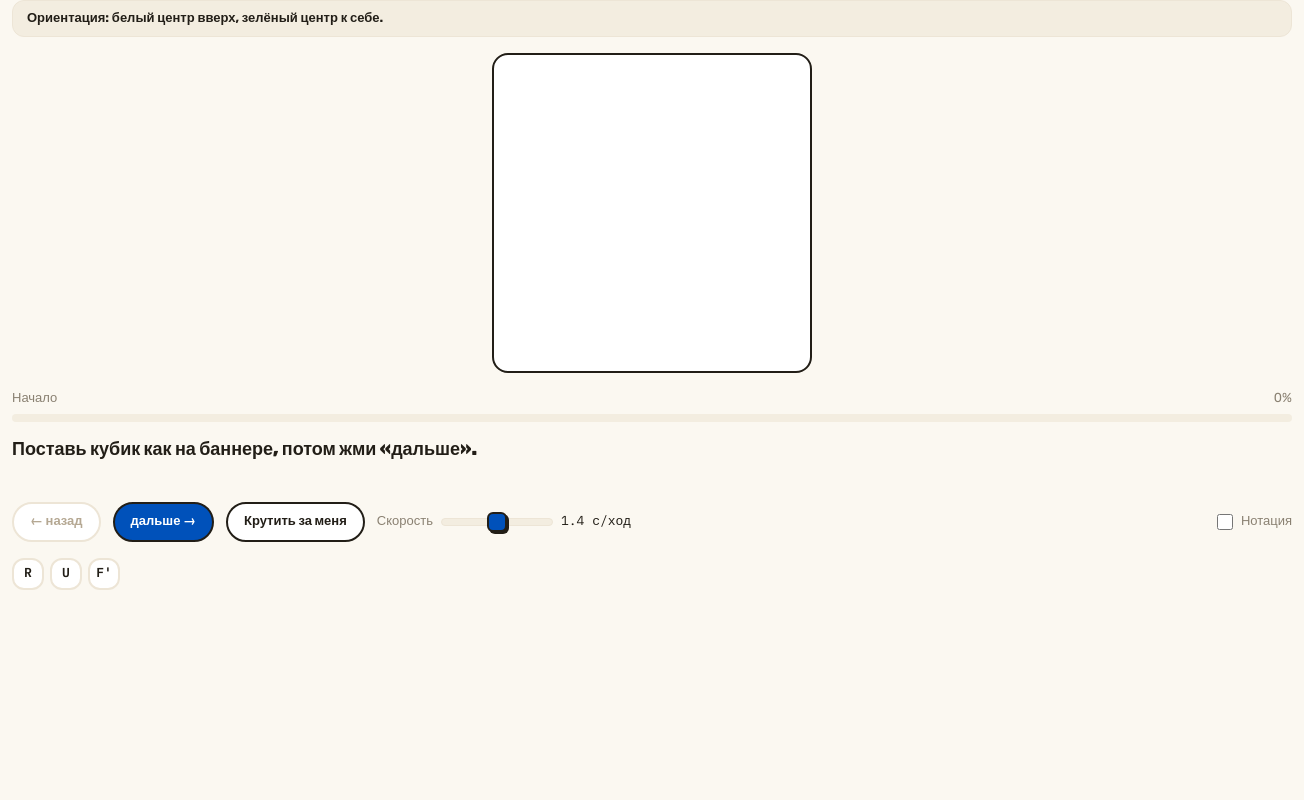
ScrambleWalkthrough — автопрокрутка › сама проходит все ходы и останавливается в конце
Click the button "Крутить за меня".
click(295, 522)  # box [226,502,365,542]
Wait 4200 ms
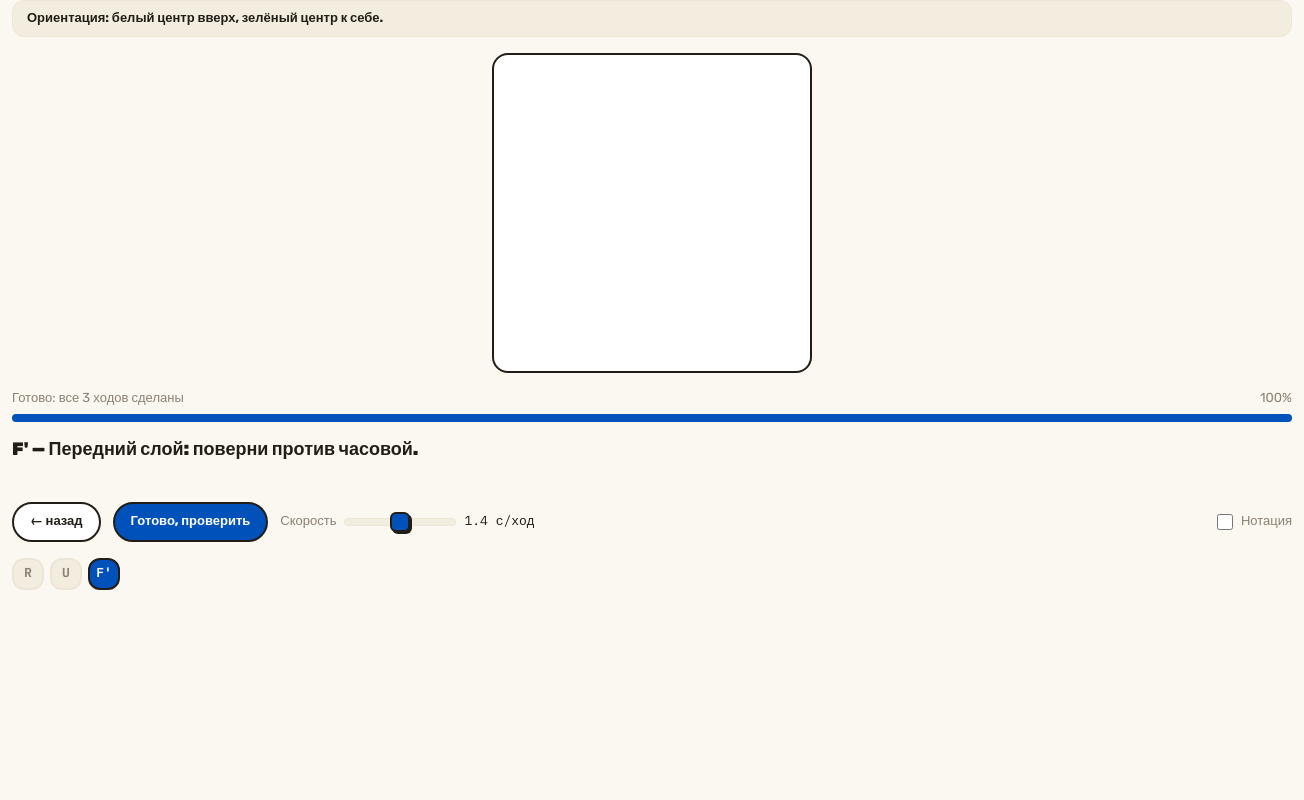
Result: the text "Готово: все 3 ходов сделаны" is shown at [12,389,184,408]
